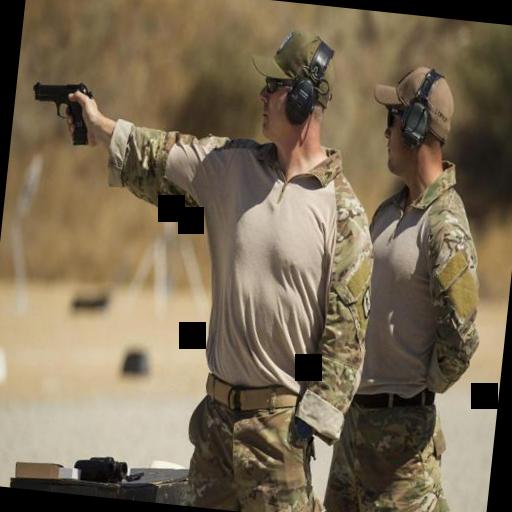Handgun: (24, 76, 98, 150)
